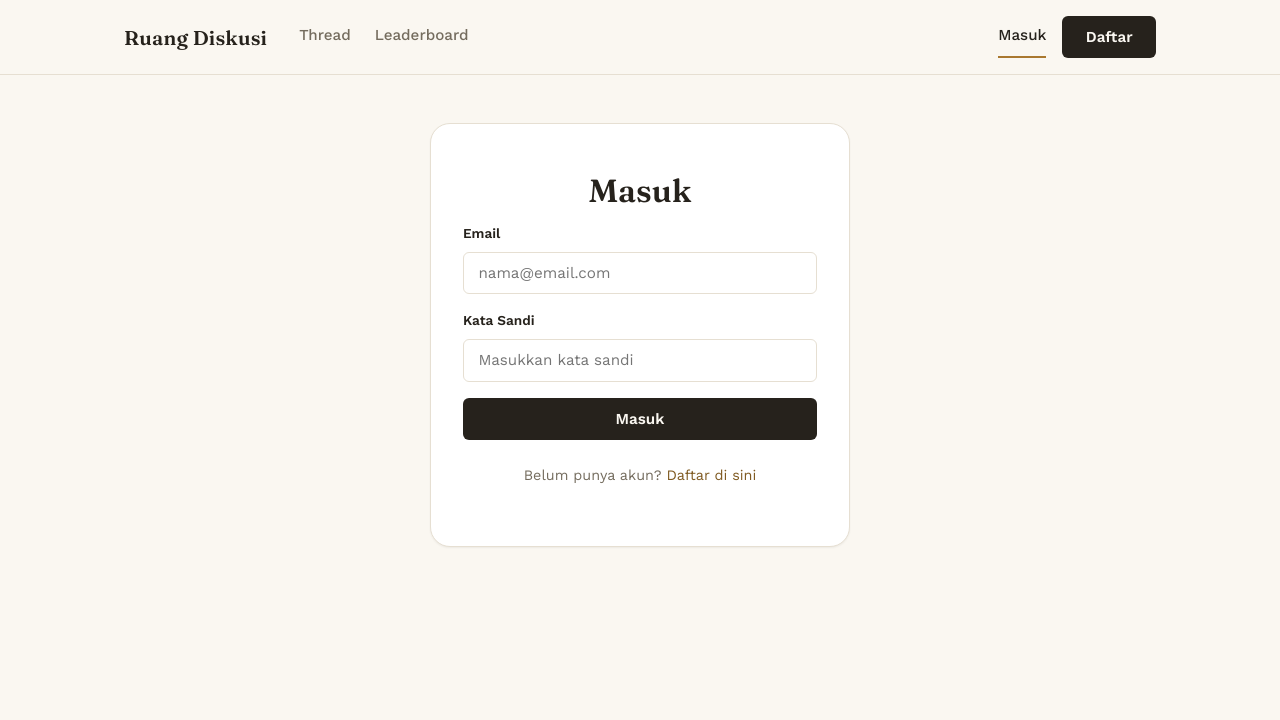
Scenario: Alur Login › should redirect to the homepage and show the user name after a successful login
The image size is (1280, 720).
In the field with id "login-email": (640, 273) [463, 252, 817, 294], type "dimas@mail.com"
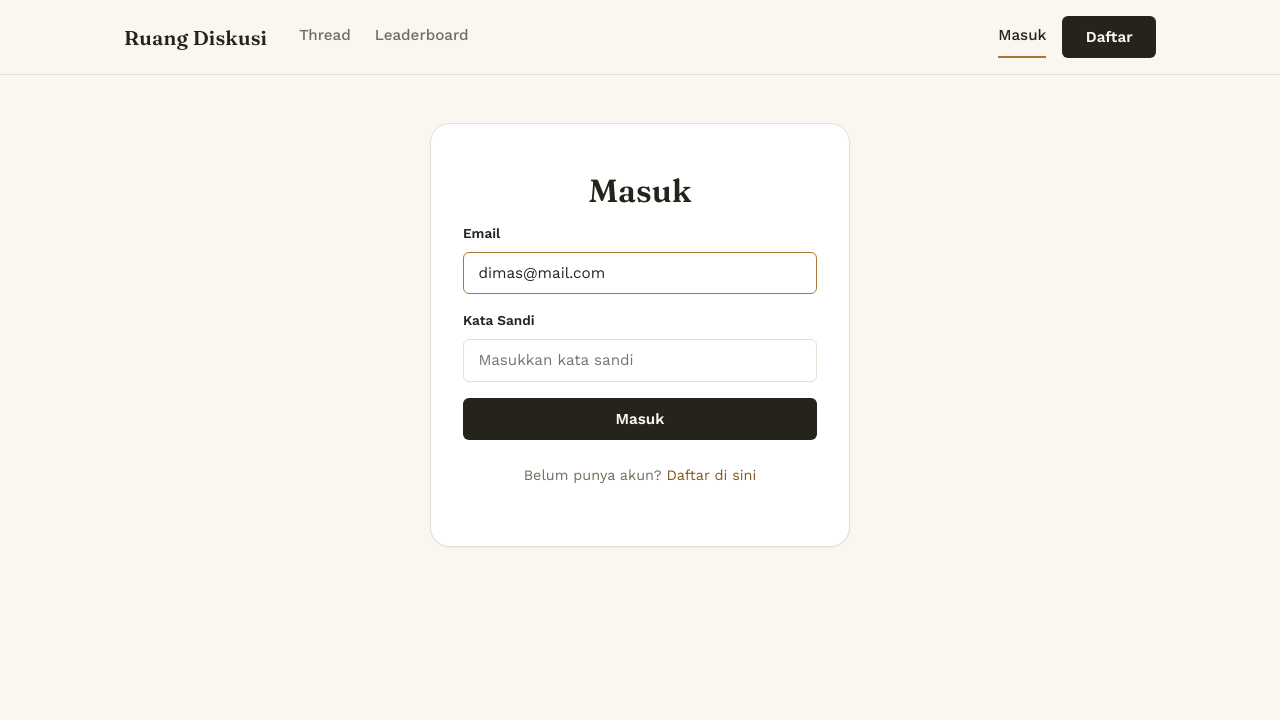
In the password field with id "login-password": (640, 360) [463, 339, 817, 381], type "passwordbenar"
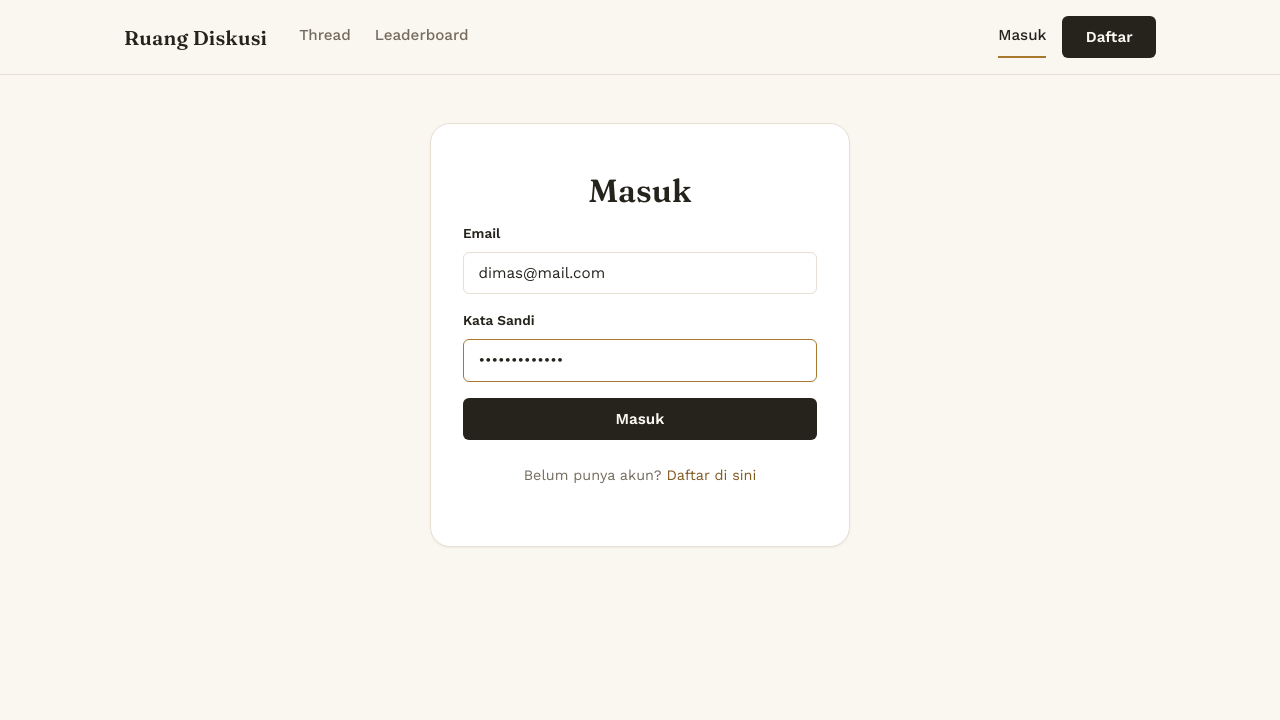
Click the button "Masuk": (640, 419) [463, 398, 817, 440]
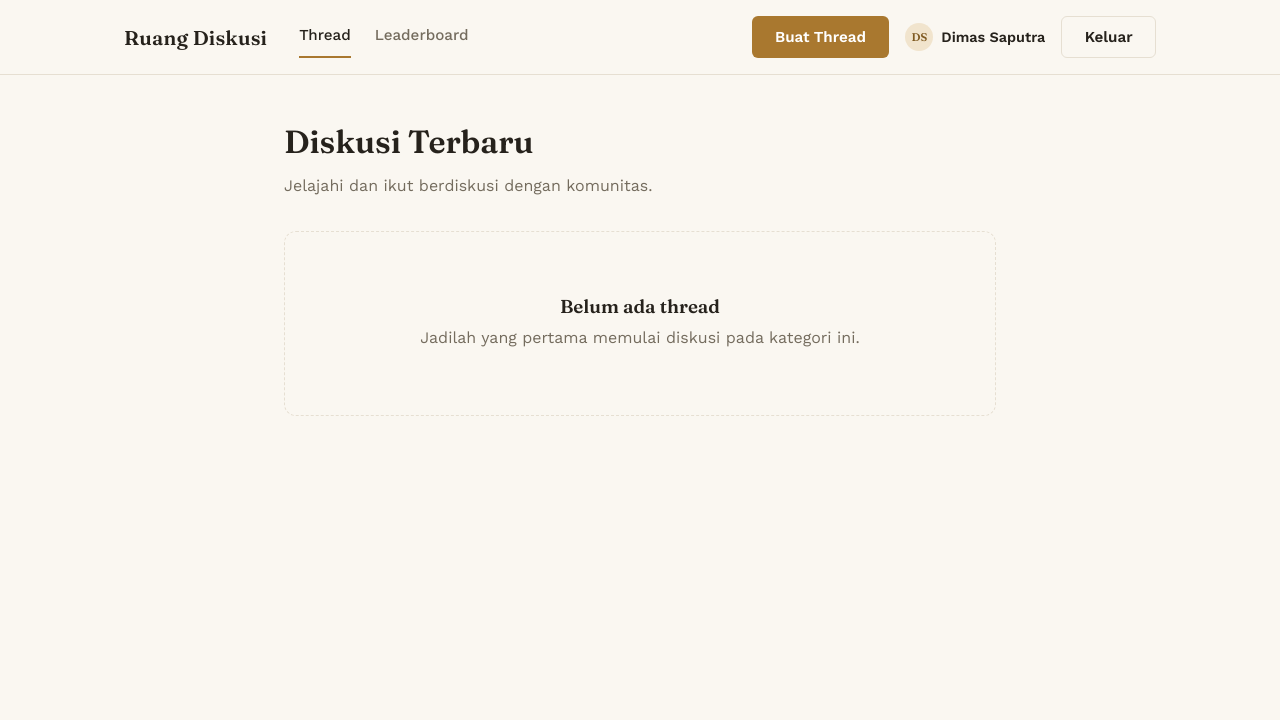
Check: the text "Dimas Saputra" is shown, box [941, 26, 1045, 48]
